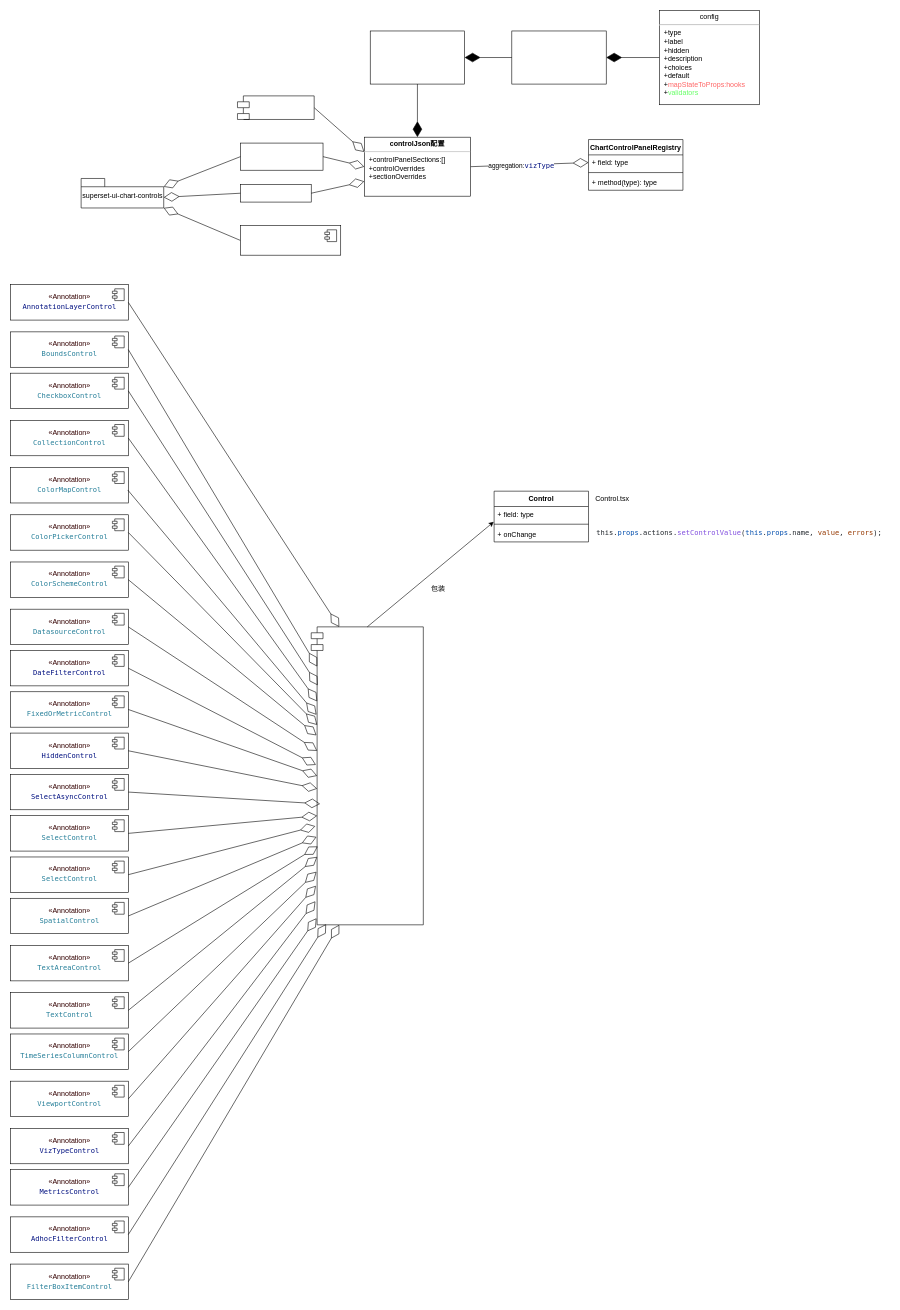
This 900x1310 diagram has some shape labels left out. Here are the shapes that lost their labels. From the top down, the centre of each, then its label:
At point 417,57: "controlPanelSections +label +controlSetRows:[control]".
At point 558,57: "control +name +config".
At point 275,107: "src/controlPanels 部分配置".
At point 281,156: "shared-controls:json".
At point 275,193: "sections.tsx : json".
At point 290,240: "«公用组件» Control Component".
At point 367,775: "controlMap".
